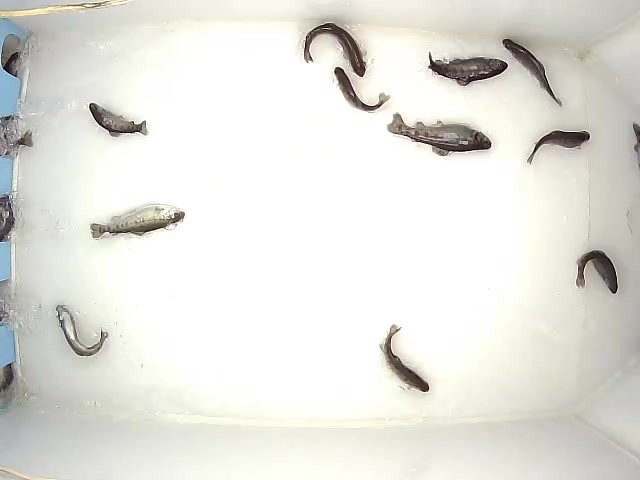fish: (385, 111, 492, 157), (502, 38, 563, 109), (90, 200, 186, 240), (378, 323, 430, 394), (303, 22, 367, 77), (427, 51, 508, 88), (55, 304, 110, 357), (334, 66, 391, 113), (526, 130, 591, 165), (89, 102, 149, 139), (575, 249, 618, 296)
